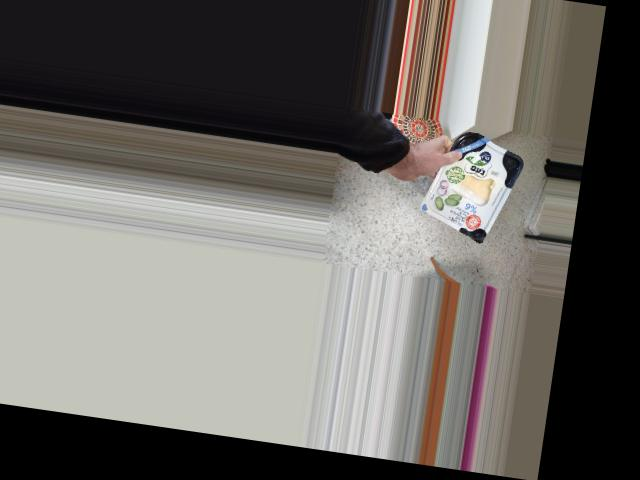cheese: (427, 139, 507, 234)
